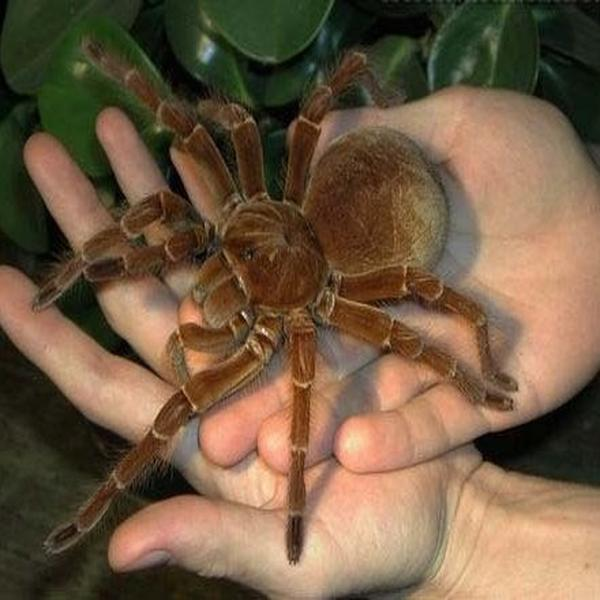Tarantula Spider: (58, 47, 509, 535)
